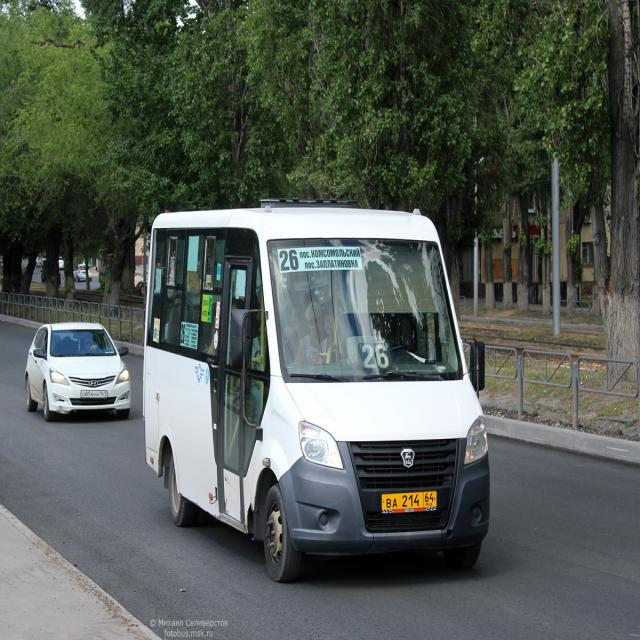number-of-bus: (361, 343, 393, 371), (279, 249, 301, 273)
